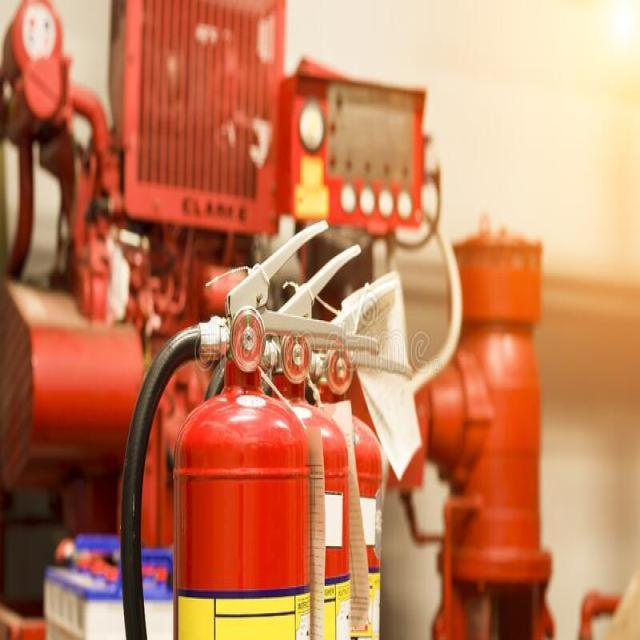fire_extinguisher: (116, 212, 350, 638), (196, 239, 381, 639), (280, 267, 418, 638)
